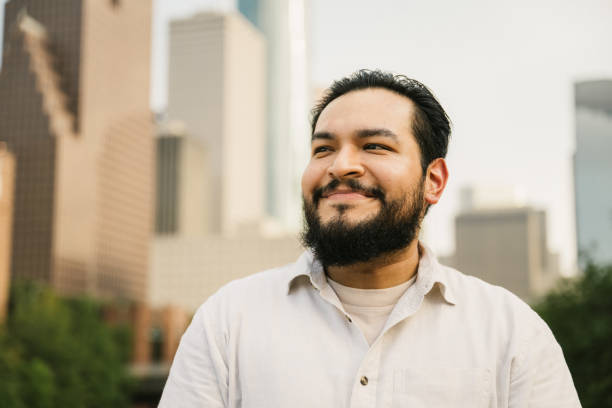Male: (157, 66, 580, 408)
